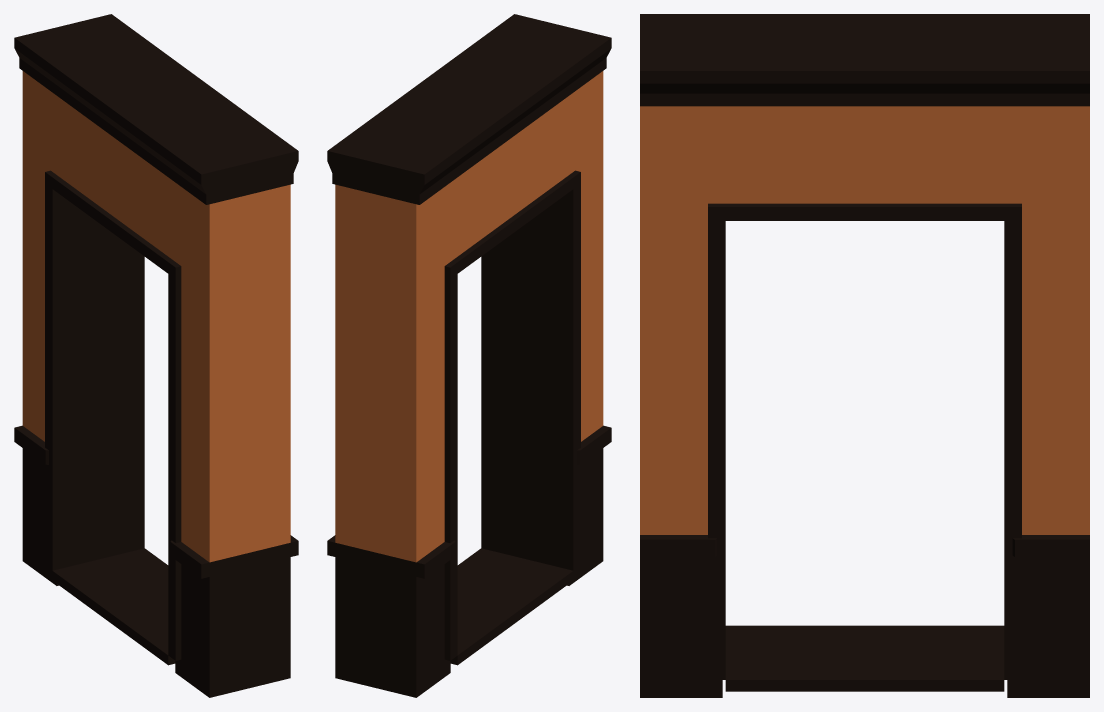
File: WallDoor_Final.fbx
3 renders of one model, left to right at view 1: azimuth 30°, elevation 25°; view 2: azimuth 150°, elevation 25°; view 3: azimuth 270°, elevation 25°, orthographic. The views are drawn at different scales.
Parts seen in each view (by area): view 1: S_WallDoor; view 2: S_WallDoor; view 3: S_WallDoor.
Part boxes in pixels (left/top/right/bottom): S_WallDoor: left=14, top=14, right=298, bottom=697; S_WallDoor: left=327, top=14, right=611, bottom=697; S_WallDoor: left=640, top=14, right=1089, bottom=697.
Bounding box in the file's own units: 0.5994 × 3.1 × 2.
